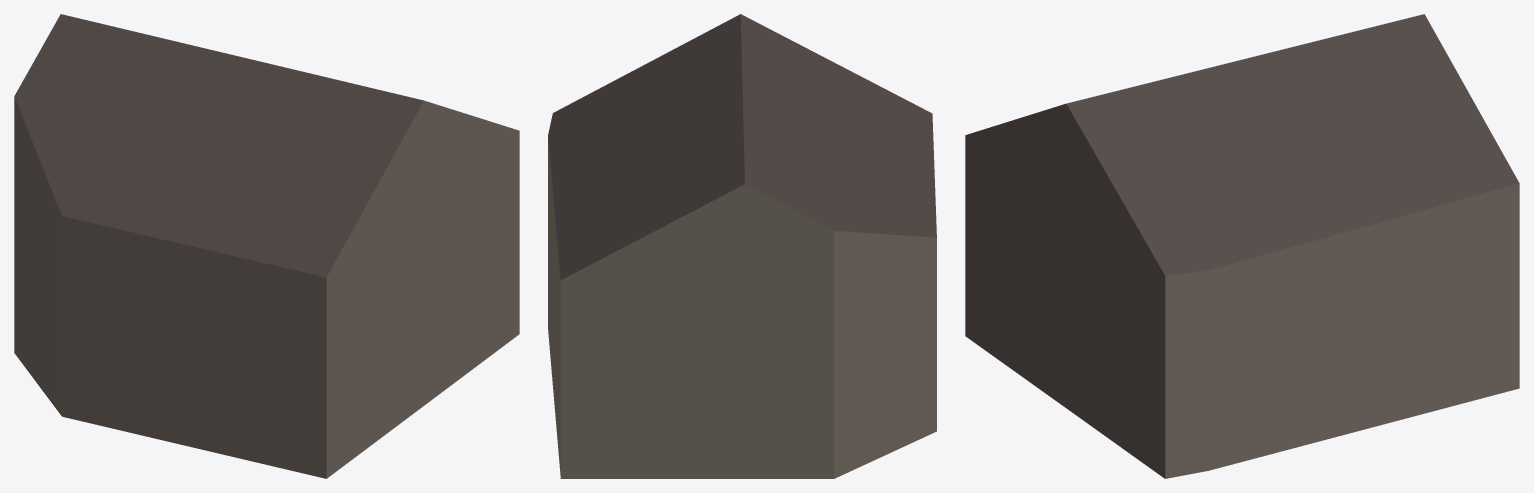
The picture shows the model from 3 angles, left to right: view 1: azimuth 30°, elevation 25°; view 2: azimuth 150°, elevation 25°; view 3: azimuth 270°, elevation 25°; orthographic projection. The views are drawn at different scales.
Visible parts, largest first — view 1: HP-w369237999; view 2: HP-w369237999; view 3: HP-w369237999.
Part boxes in pixels (bbox=[...]): HP-w369237999: bbox=[14, 14, 519, 478]; HP-w369237999: bbox=[548, 14, 936, 478]; HP-w369237999: bbox=[965, 14, 1519, 478].
Size of the model in its own units: 20.08 by 13.7 by 22.57.
